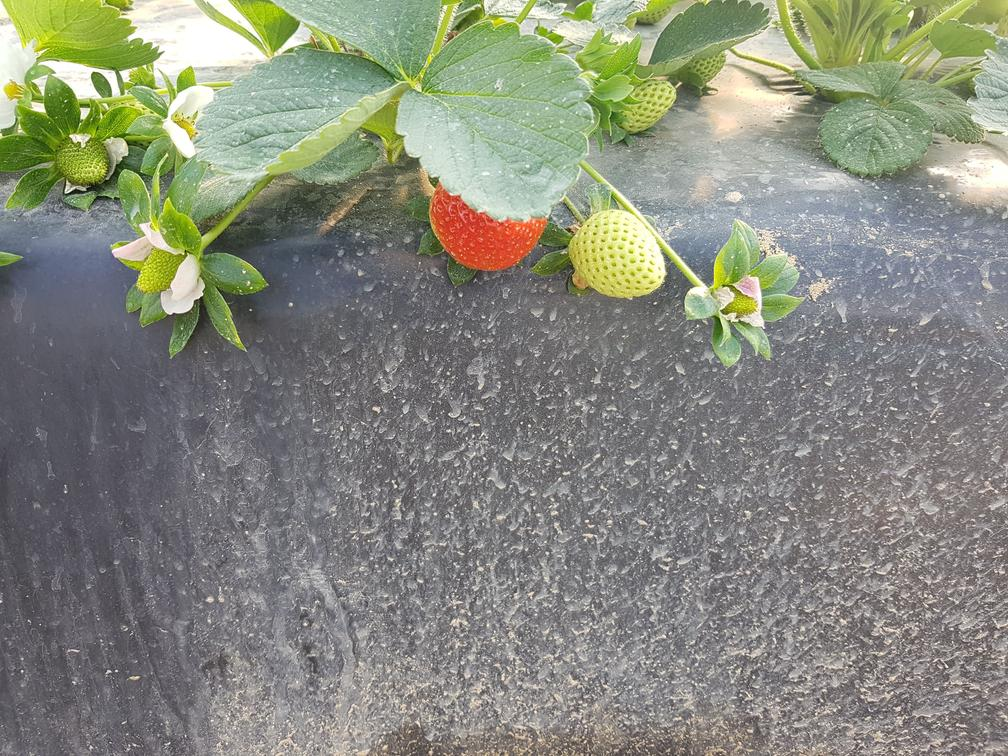Ripe: (433, 181, 555, 270)
Unripe: (569, 205, 671, 300), (134, 240, 191, 295), (56, 139, 112, 186)
